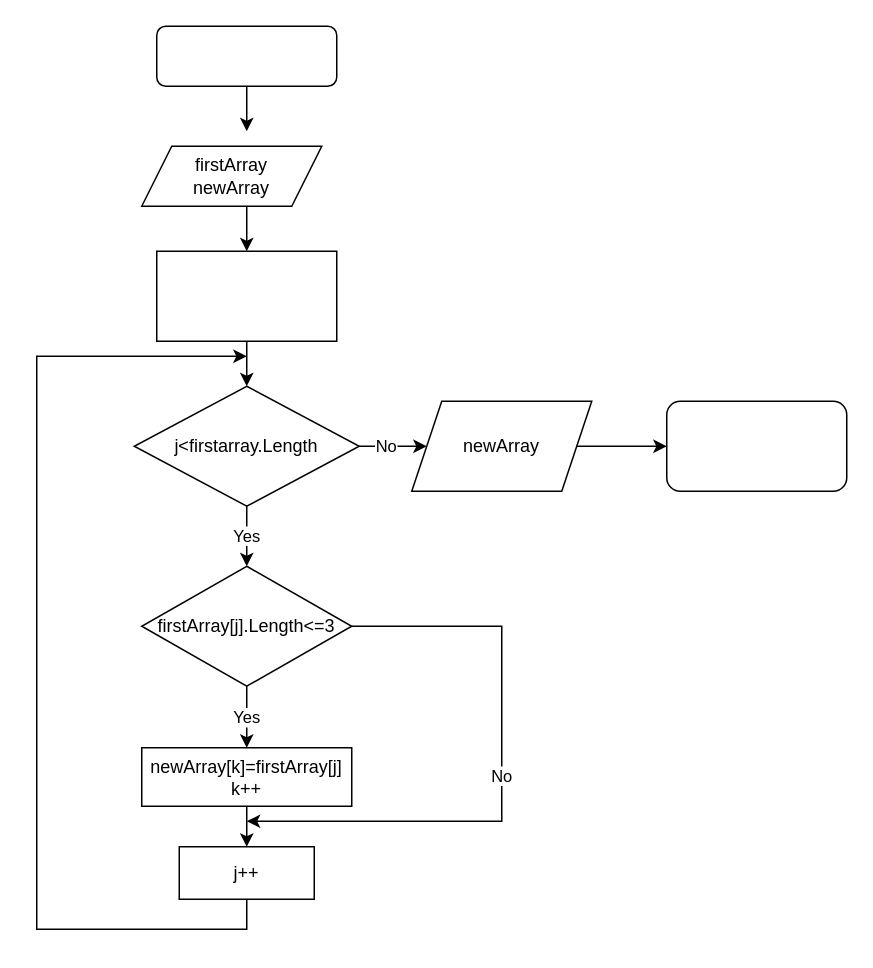
The diagram is 873 pixels wide and 968 high, and some of its shapes have lost their labels. The centre of each missing label's shape, as x and y in pixels:
finish: (756,445)
k=0 j=0: (246,295)
start: (246,55)
